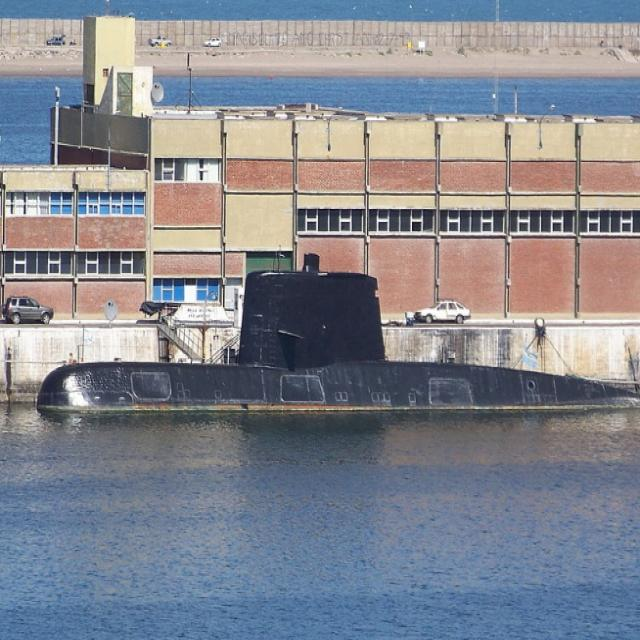submarine: (48, 274, 640, 411)
